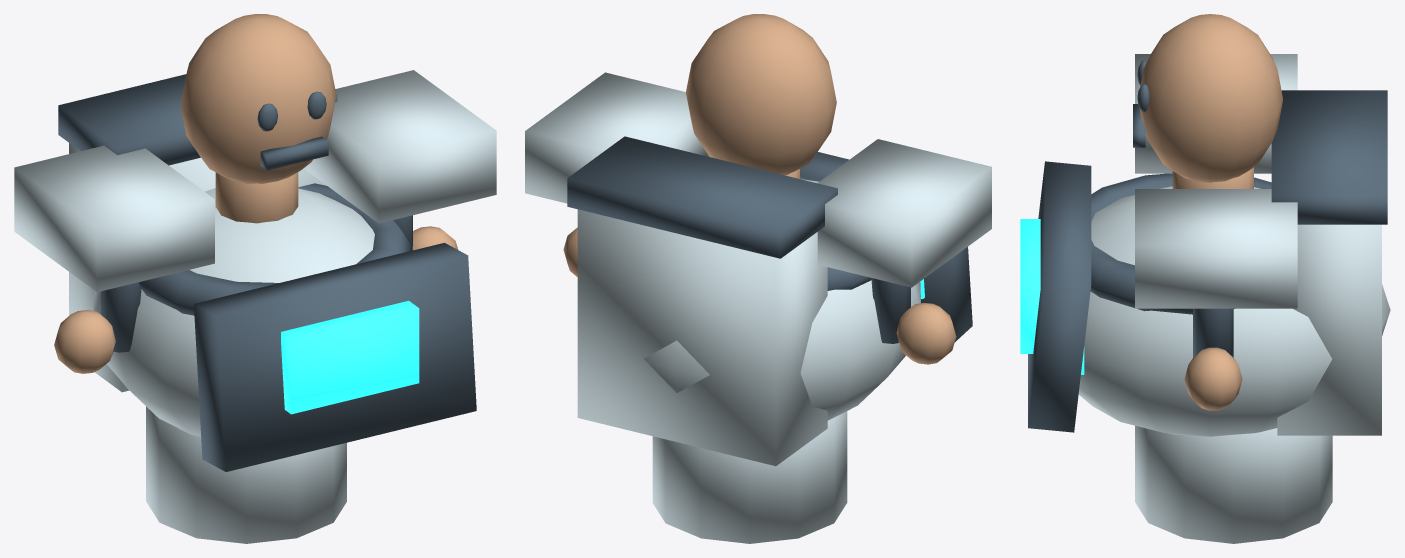
The model's file is porcelain-raider-armored-v001.glb.
The picture shows the model from 3 angles, left to right: view 1: azimuth 30°, elevation 25°; view 2: azimuth 150°, elevation 25°; view 3: azimuth 270°, elevation 25°; orthographic projection. The views are drawn at different scales.
Parts seen in each view (by area): view 1: front-armor, shoulder-left, shoulder-right, head, bowl, pedestal, shield-core, tank-lid, rim, neck, hand-left, tank (+3 smaller); view 2: tank, tank-lid, shoulder-left, head, pedestal, shoulder-right, bowl, front-armor, hand-left, arm-left, rim; view 3: bowl, pedestal, shoulder-right, head, tank, tank-lid, front-armor, rim, hand-right, shield-core, shoulder-left, arm-right (+2 smaller).
Boxes of the visible parts, <box> form: front-armor: <box>193,242,476,471</box>; shoulder-left: <box>14,145,214,292</box>; shoulder-right: <box>306,70,496,223</box>; head: <box>180,14,336,183</box>; bowl: <box>93,188,374,436</box>; pedestal: <box>146,406,346,543</box>; shield-core: <box>281,300,419,414</box>; tank-lid: <box>58,74,337,165</box>; rim: <box>139,183,410,315</box>; neck: <box>215,172,298,223</box>; hand-left: <box>54,310,115,373</box>; tank: <box>69,143,326,392</box>; tank: <box>577,209,827,466</box>; tank-lid: <box>567,136,837,258</box>; shoulder-left: <box>817,139,991,287</box>; head: <box>686,14,836,175</box>; pedestal: <box>652,411,847,543</box>; shoulder-right: <box>525,72,709,203</box>; bowl: <box>644,179,920,420</box>; front-armor: <box>800,152,972,342</box>; hand-left: <box>896,303,956,364</box>; arm-left: <box>871,278,910,343</box>; rim: <box>800,177,871,290</box>; bowl: <box>1078,186,1390,436</box>; pedestal: <box>1135,425,1332,543</box>; shoulder-right: <box>1135,189,1297,308</box>; head: <box>1139,14,1282,182</box>; tank: <box>1277,224,1381,435</box>; tank-lid: <box>1271,90,1387,224</box>; front-armor: <box>1028,161,1091,432</box>; rim: <box>1090,173,1271,314</box>; hand-right: <box>1184,347,1242,410</box>; shield-core: <box>1020,219,1040,353</box>; shoulder-left: <box>1135,54,1297,173</box>; arm-right: <box>1193,308,1233,357</box>.
Size of the model in its own units: 1.56 by 1.83 by 1.27.
